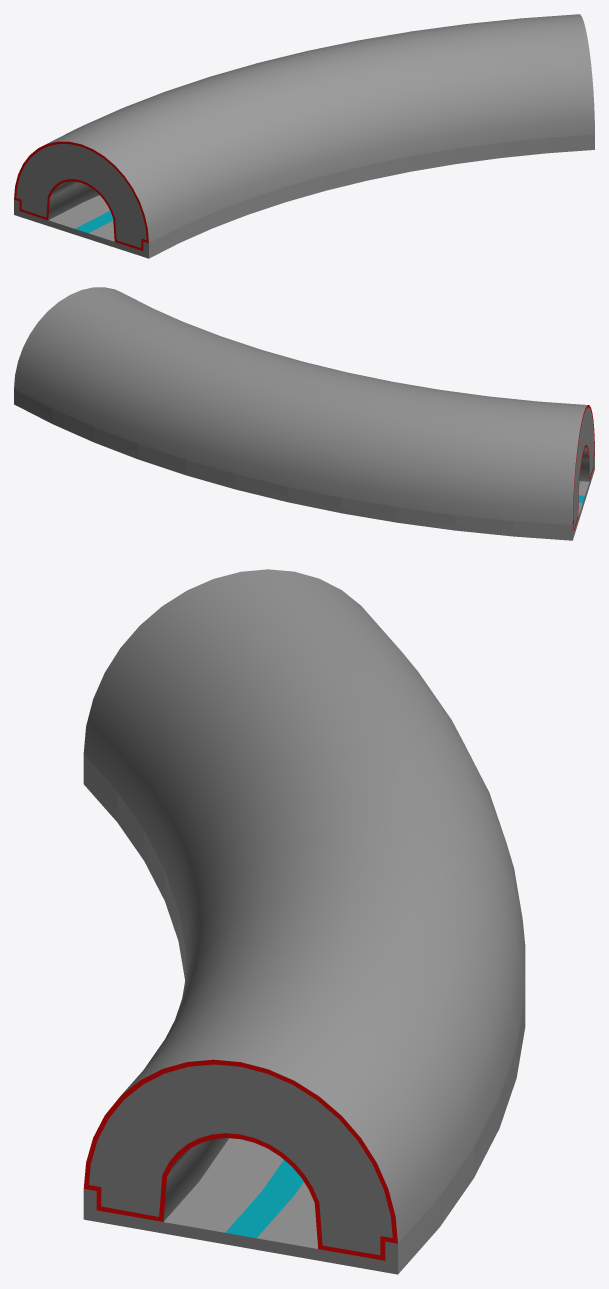
Rendered from mesh_road_tunnel_curve_45.FBX.
The picture shows the model from 3 angles, top to bottom: view 1: azimuth 30°, elevation 25°; view 2: azimuth 150°, elevation 25°; view 3: azimuth 270°, elevation 25°; orthographic projection. The views are drawn at different scales.
Visible parts, largest first — view 1: Box001; view 2: Box001; view 3: Box001.
Boxes of the visible parts, bbox=[...] form: Box001: bbox=[14, 14, 594, 258]; Box001: bbox=[14, 287, 594, 540]; Box001: bbox=[83, 569, 525, 1274].
Bounding box in the file's own units: 152 × 24 × 51.92.
